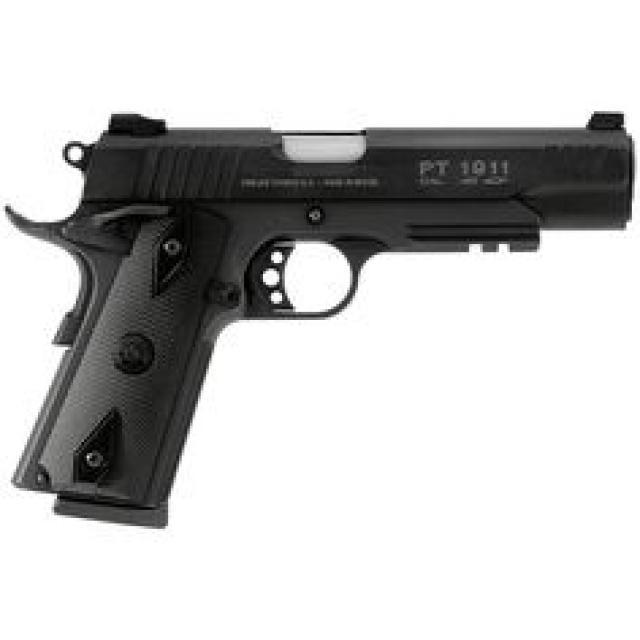semi automatic: (2, 97, 640, 550)
